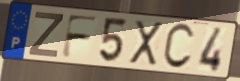4: (196, 26, 224, 74)
5: (99, 16, 130, 66)
C: (161, 22, 197, 72)
F: (59, 13, 100, 60)
X: (128, 19, 164, 68)
Z: (27, 10, 66, 59)
